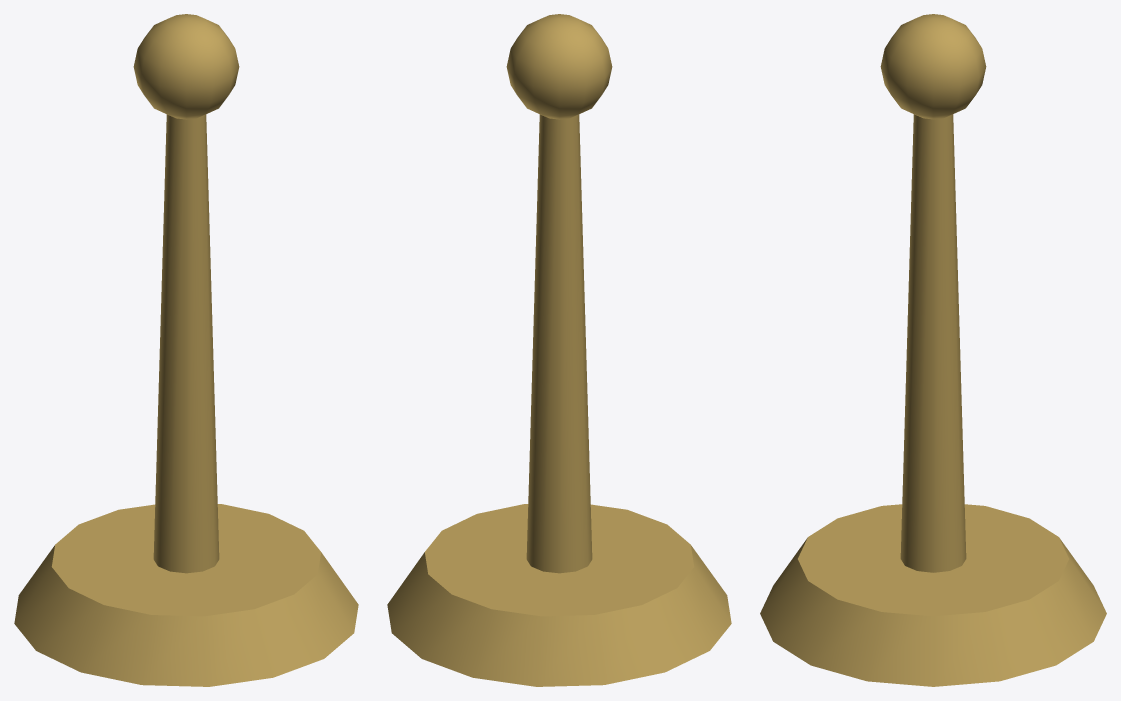
The model's file is stanchion.glb.
The picture shows the model from 3 angles, left to right: view 1: azimuth 30°, elevation 25°; view 2: azimuth 150°, elevation 25°; view 3: azimuth 270°, elevation 25°; orthographic projection.
Visible parts, largest first — view 1: Brass rope post; view 2: Brass rope post; view 3: Brass rope post.
Part boxes in pixels (x1,y1,x2,y2): Brass rope post: [14, 14, 358, 686]; Brass rope post: [387, 14, 731, 686]; Brass rope post: [760, 14, 1106, 686].
Size of the model in its own units: 0.46 by 0.87 by 0.46.
